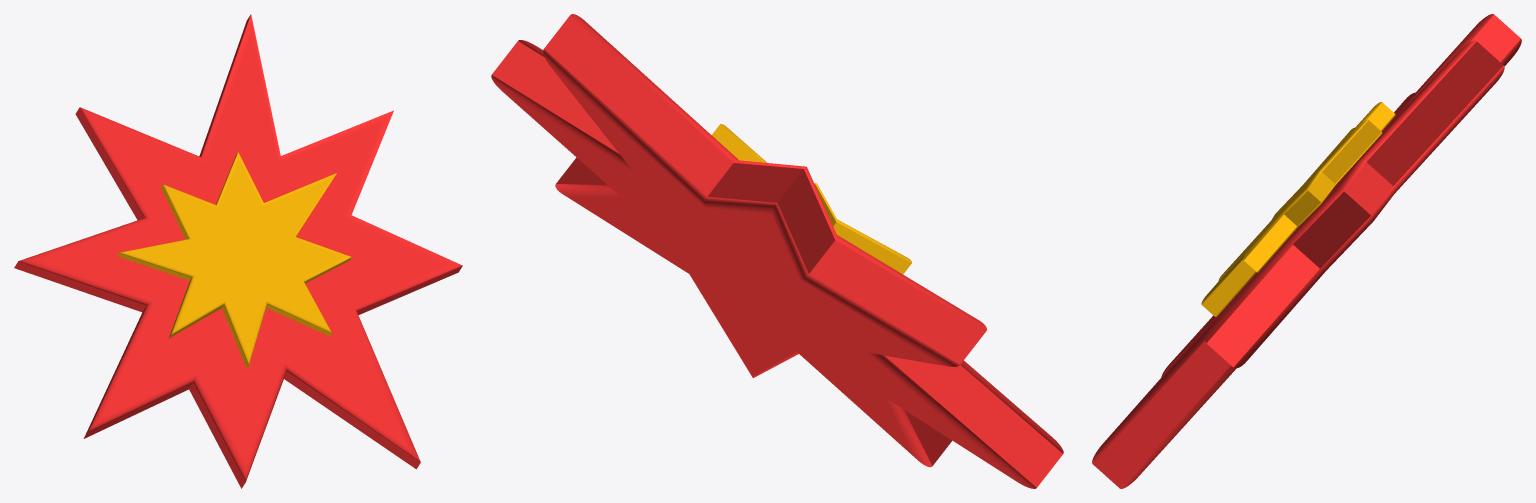
The model's file is boom.gltf.
3 renders of one model, left to right at view 1: azimuth 30°, elevation 25°; view 2: azimuth 150°, elevation 25°; view 3: azimuth 270°, elevation 25°, orthographic. The views are drawn at different scales.
Visible parts, largest first — view 1: Extrude018_1, Extrude018; view 2: Extrude018_1, Extrude018; view 3: Extrude018_1, Extrude018.
Boxes of the visible parts, <box> form: Extrude018_1: <box>14,14,462,488</box>; Extrude018: <box>117,152,351,368</box>; Extrude018_1: <box>491,14,1063,488</box>; Extrude018: <box>712,124,911,274</box>; Extrude018_1: <box>1092,14,1521,488</box>; Extrude018: <box>1201,102,1395,316</box>.
Bounding box in the file's own units: 4.17 × 3.92 × 3.46.
